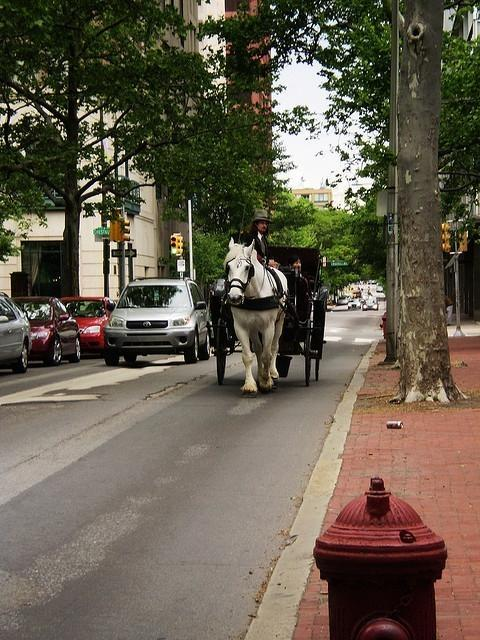car: (103, 280, 211, 360), (10, 295, 84, 366), (61, 296, 115, 354), (2, 292, 32, 370), (360, 299, 381, 312), (347, 298, 361, 310), (338, 296, 348, 304), (376, 293, 386, 301)
